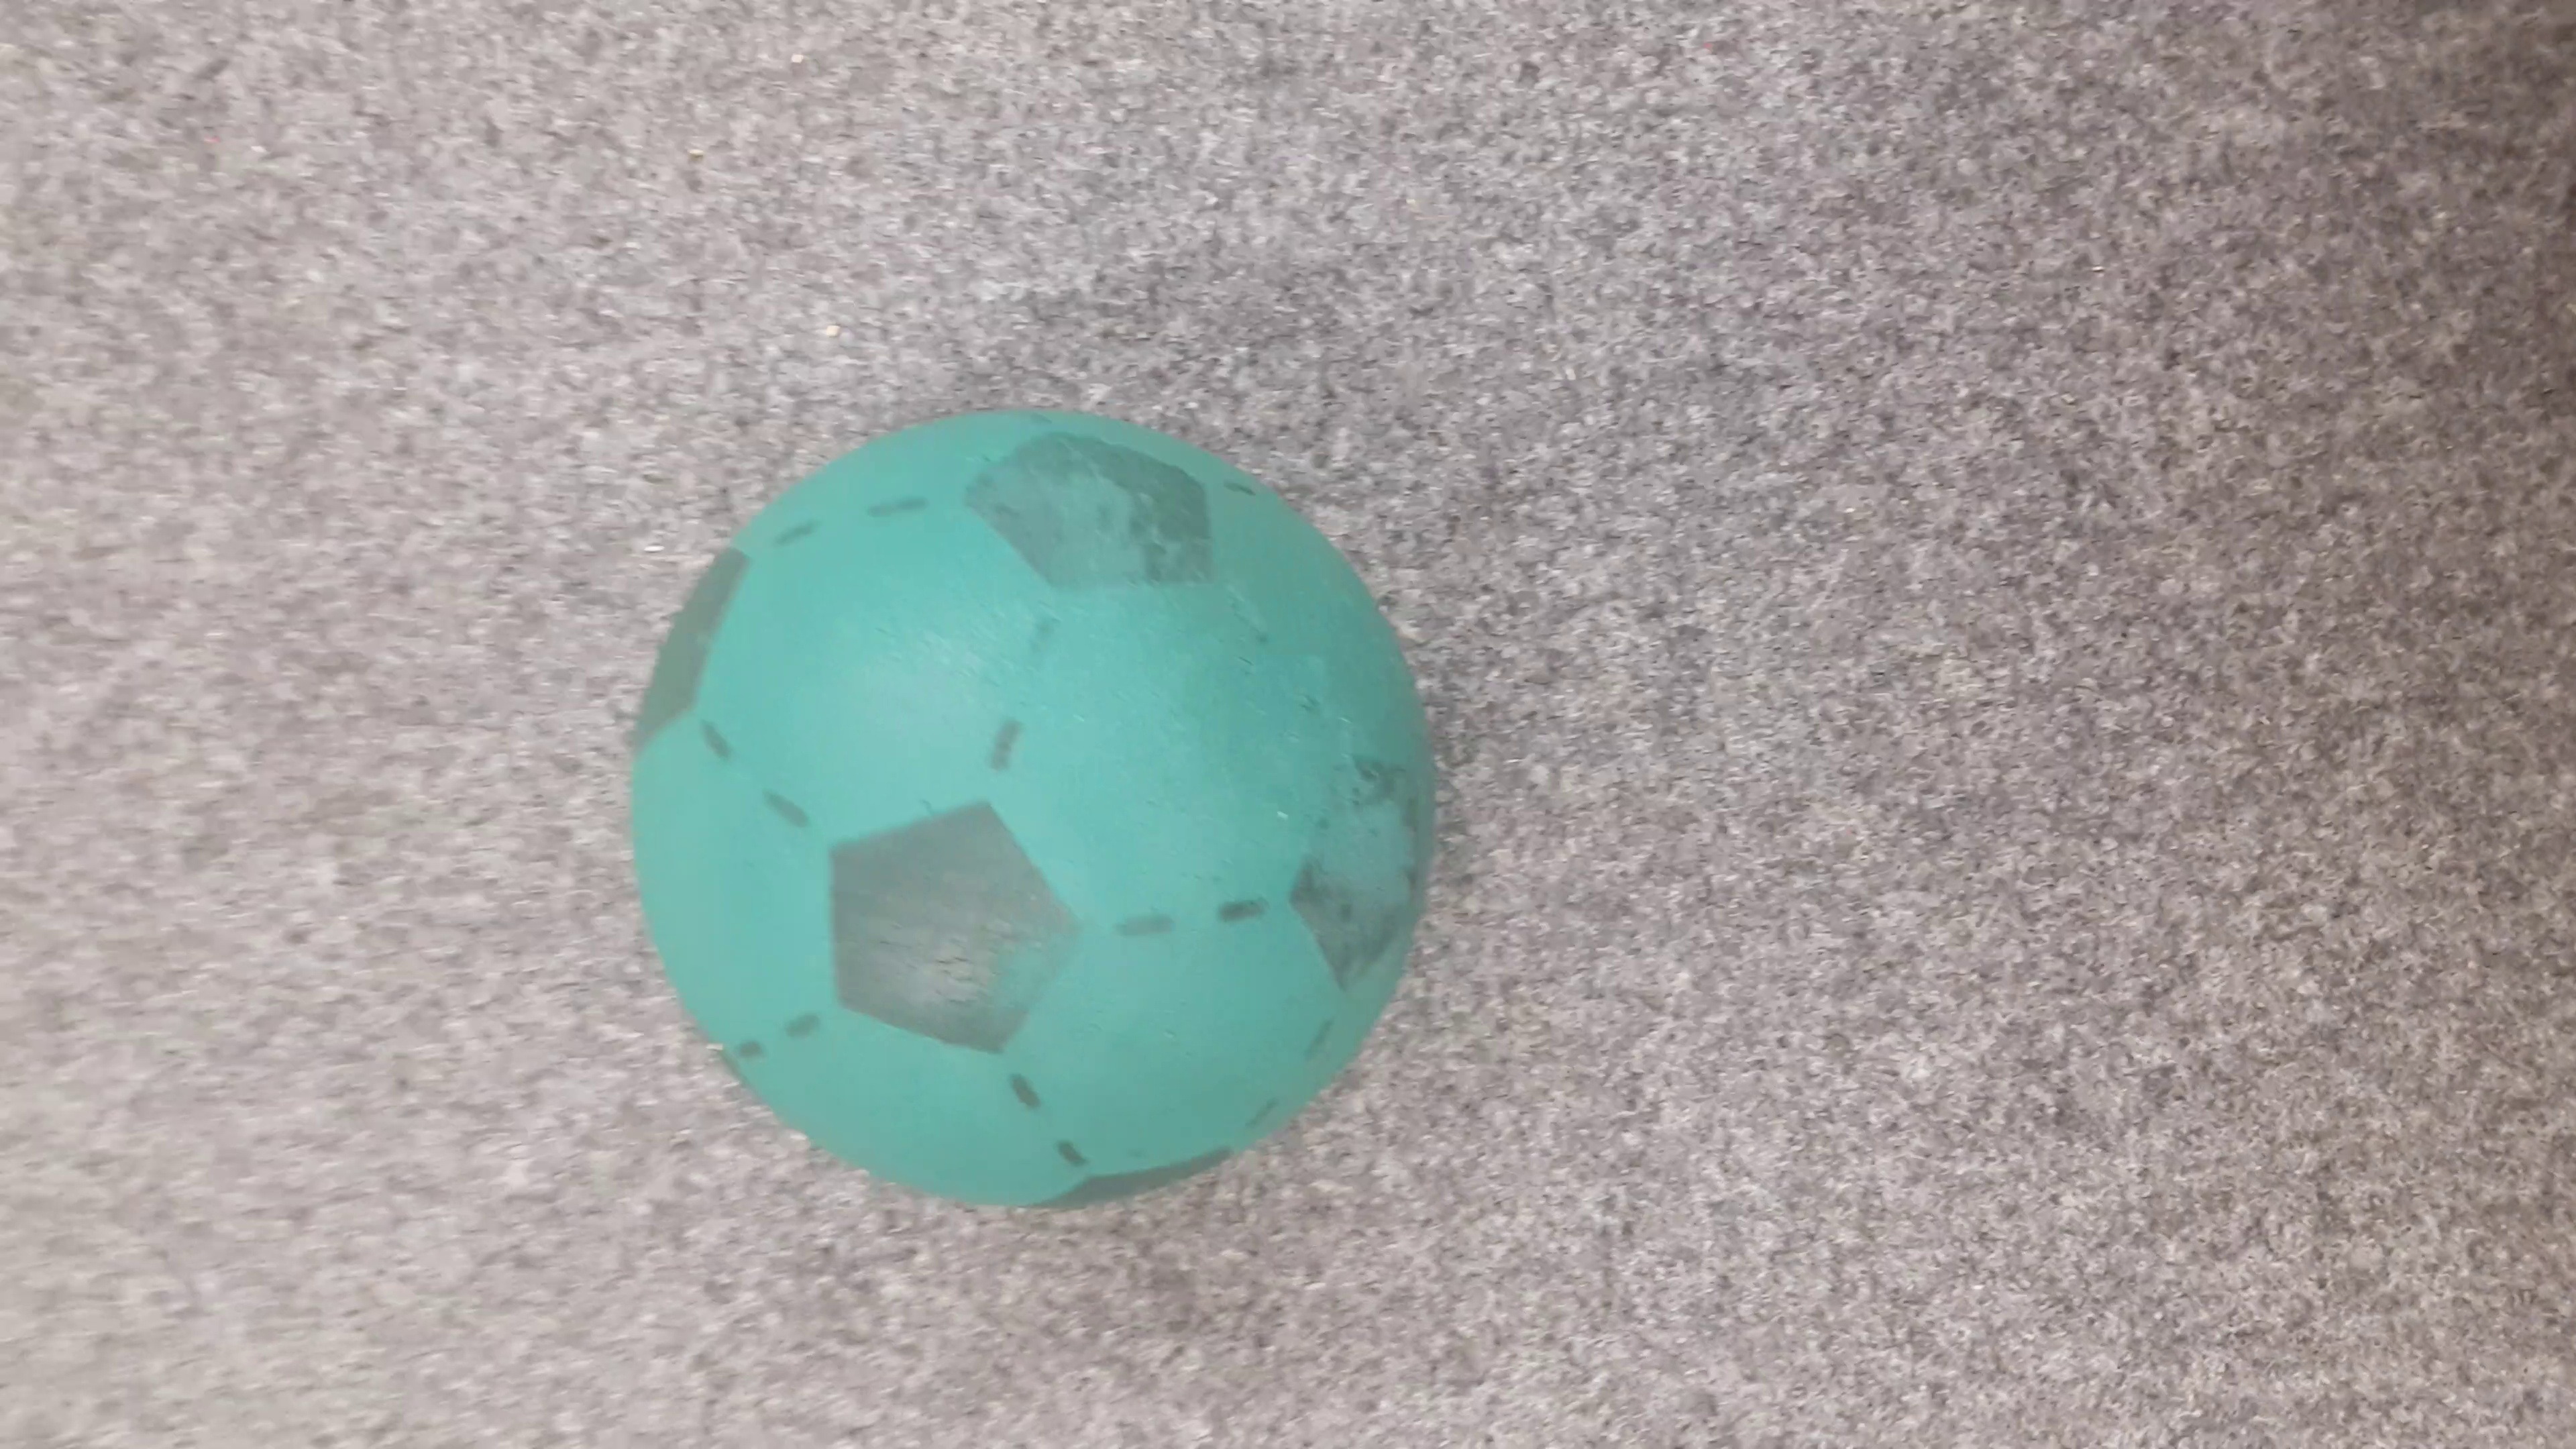kick: (630, 410, 1440, 1215)
